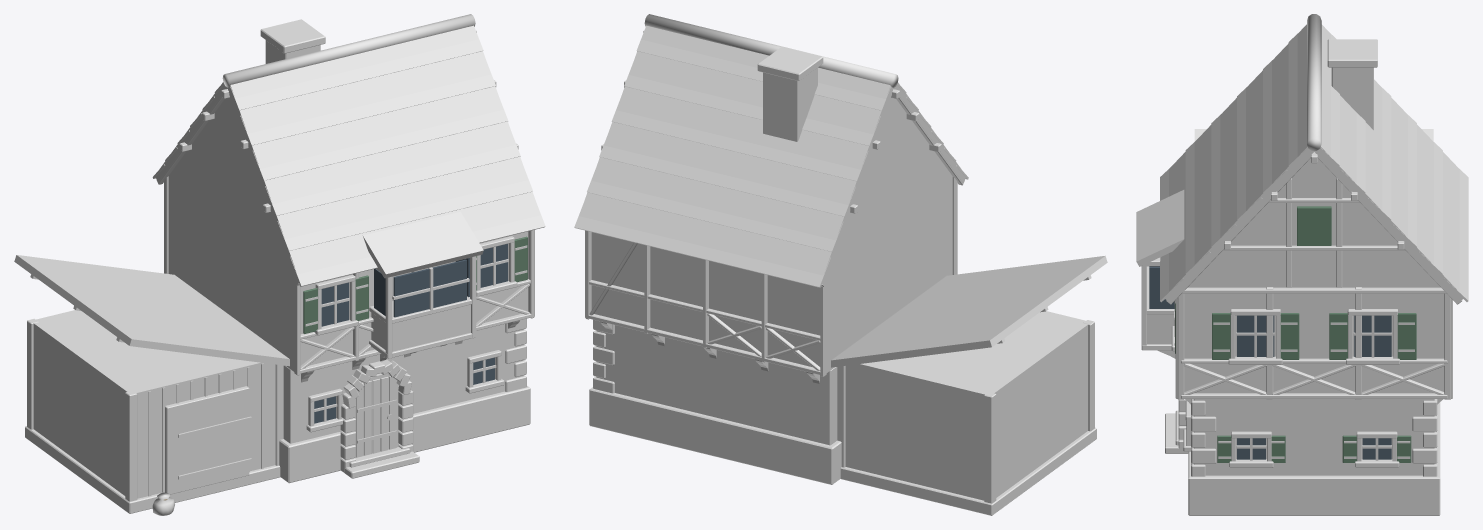
File: col_13_ecurie_adossee.fbx
3 views of the same model, side by side, from view 1: azimuth 30°, elevation 25°; view 2: azimuth 150°, elevation 25°; view 3: azimuth 270°, elevation 25° (orthographic). The views are drawn at different scales.
Parts seen in each view (by area): view 1: col_13_ecurie_adossee_LOD0; view 2: col_13_ecurie_adossee_LOD0; view 3: col_13_ecurie_adossee_LOD0.
Boxes of the visible parts, x1,y1,x2,y2 form: col_13_ecurie_adossee_LOD0: [14, 14, 545, 515]; col_13_ecurie_adossee_LOD0: [574, 14, 1107, 515]; col_13_ecurie_adossee_LOD0: [1136, 14, 1468, 515].
Size of what is drawn, in the model's own units: 10.02 by 8.83 by 6.88.
